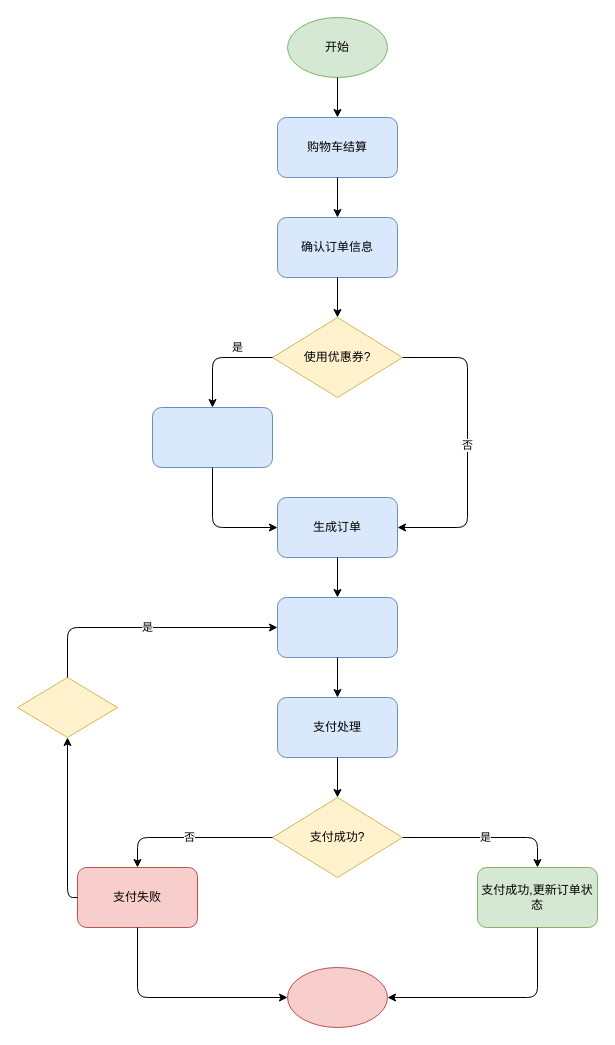
This 615x1045 diagram has some shape labels left out. Here are the shapes that lost their labels. From the top down, the centre of each, then its label:
At point (212, 437): "选择优惠券".
At point (337, 627): "选择支付方式".
At point (67, 707): "重试?".
At point (337, 997): "结束".
